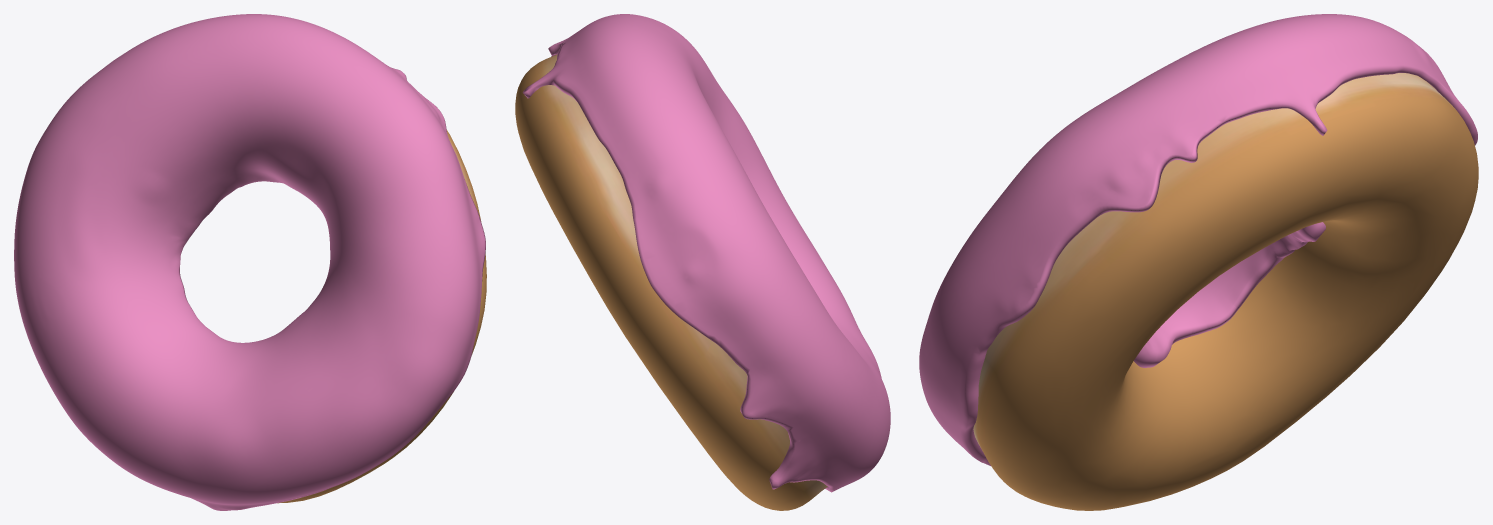
File: donut.glb
The picture shows the model from 3 angles, left to right: view 1: azimuth 30°, elevation 25°; view 2: azimuth 150°, elevation 25°; view 3: azimuth 270°, elevation 25°; orthographic projection. The views are drawn at different scales.
Visible parts, largest first — view 1: Ỉcing, Donut; view 2: Ỉcing, Donut; view 3: Donut, Ỉcing.
Boxes of the visible parts, bbox=[...] form: Ỉcing: bbox=[14, 14, 485, 510]; Donut: bbox=[277, 130, 486, 503]; Ỉcing: bbox=[523, 14, 890, 492]; Donut: bbox=[515, 54, 827, 510]; Donut: bbox=[973, 73, 1478, 510]; Ỉcing: bbox=[919, 14, 1477, 465].
Size of the model in its own units: 0.0686 by 0.0781 by 0.0759.
2 materials, 1 textured.
